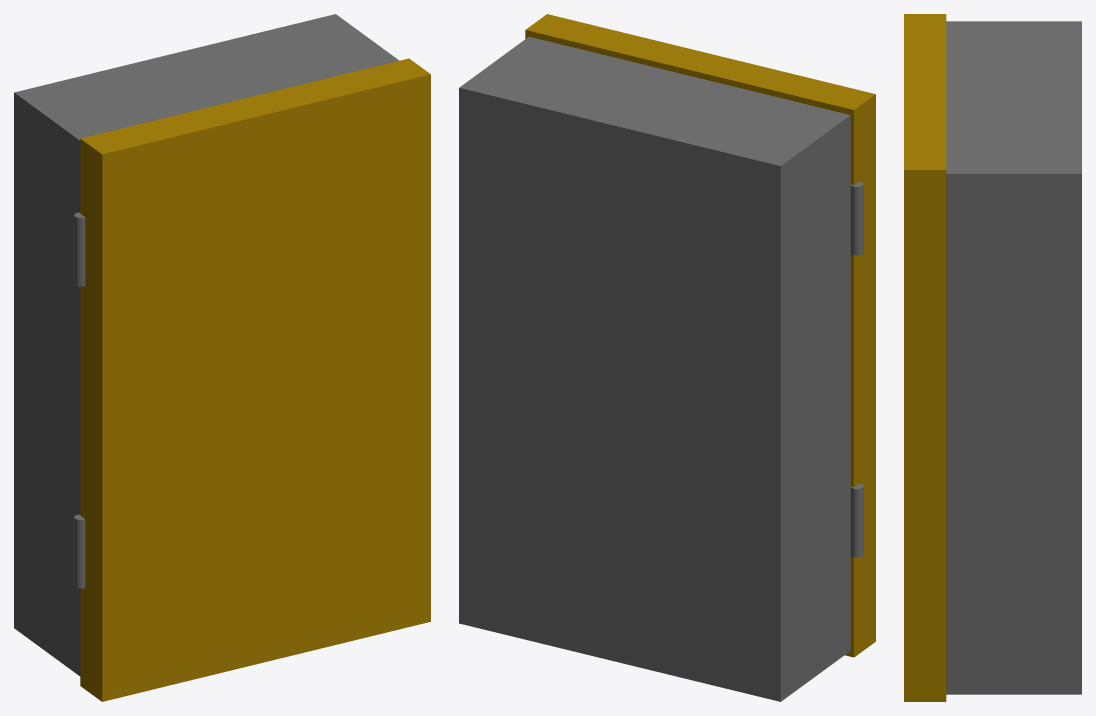
File: fuzebox.fbx
3 views of the same model, side by side, from view 1: azimuth 30°, elevation 25°; view 2: azimuth 150°, elevation 25°; view 3: azimuth 270°, elevation 25° (orthographic). The views are drawn at different scales.
Parts seen in each view (by area): view 1: FBDoor, FuseBox, Hinges; view 2: FuseBox, FBDoor, Hinges; view 3: FuseBox, FBDoor.
Boxes of the visible parts, left/top/right/bottom form: FBDoor: left=80, top=58, right=430, bottom=701; FuseBox: left=14, top=14, right=398, bottom=676; Hinges: left=74, top=212, right=85, bottom=588; FuseBox: left=459, top=36, right=850, bottom=701; FBDoor: left=525, top=14, right=875, bottom=657; Hinges: left=850, top=181, right=863, bottom=557; FuseBox: left=946, top=21, right=1081, bottom=694; FBDoor: left=904, top=14, right=946, bottom=701.
Size of the model in its own units: 42.86 by 66.79 by 20.25.
